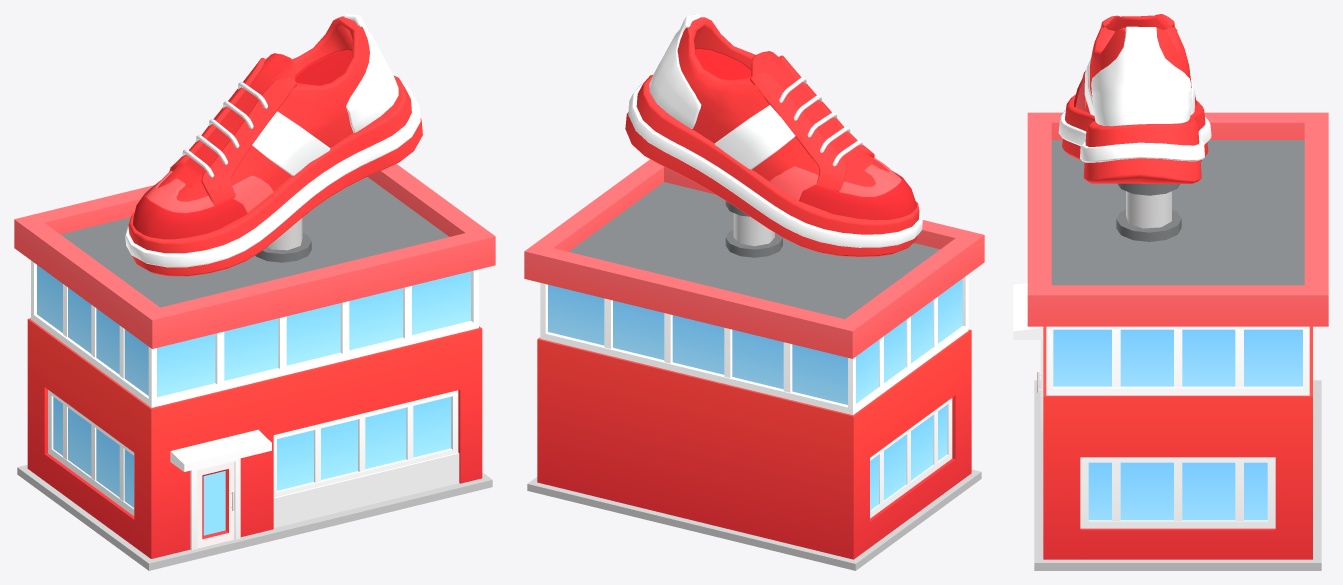
File: city2-building-service-07.glb
The picture shows the model from 3 angles, left to right: view 1: azimuth 30°, elevation 25°; view 2: azimuth 150°, elevation 25°; view 3: azimuth 270°, elevation 25°; orthographic projection. The views are drawn at different scales.
Parts seen in each view (by area): view 1: Building_Service_07; view 2: Building_Service_07; view 3: Building_Service_07.
Boxes of the visible parts, x1,y1,x2,y2 form: Building_Service_07: (14, 14, 495, 570); Building_Service_07: (524, 14, 984, 570); Building_Service_07: (1013, 14, 1328, 570).
Size of the model in its own units: 9.86 by 12.54 by 7.18.
Materials: 1 (1 with a texture image).
